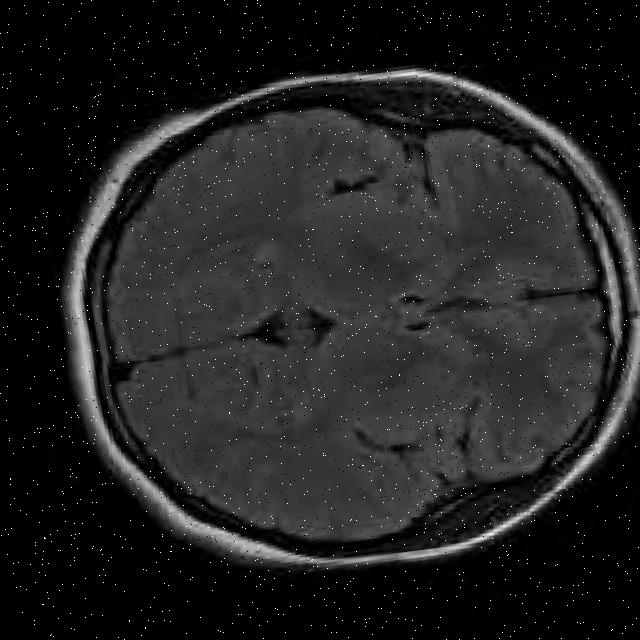NoTumor: (64, 65, 640, 577)
